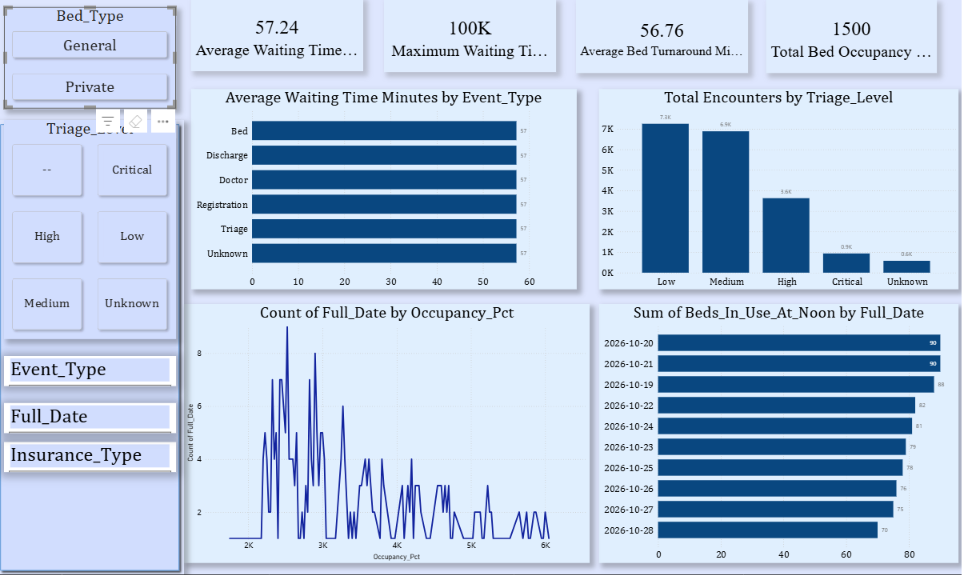

This screenshot's page, from the dashboard's own definition file:
{"tool":"powerbi","page":{"name":"Patient Flow & Capacity Management","canvas":[2000,1200],"ordinal":1},"visuals":[{"type":"card","fields":{"Values":["healthcare bed_occupancy_clean.Average Waiting Time Minutes"]},"box":[398.7,20,351.9,149.2],"z":4000},{"type":"card","fields":{"Values":["healthcare bed_occupancy_clean.Maximum Waiting Time Minutes"]},"box":[792.9,22.3,351.9,149.2],"z":5000},{"type":"card","fields":{"Values":["healthcare bed_occupancy_clean.Average Bed Turnaround Minutes"]},"box":[1187.1,24.5,351.9,149.2],"z":6000},{"type":"card","fields":{"Values":["healthcare bed_occupancy_clean.Total Bed Occupancy Records"]},"box":[1574.6,24.5,349.7,149.2],"z":7000},{"type":"clusteredBarChart","fields":{"Category":["healthcare patient_flow_events_clean.Event_Type"],"Y":["healthcare bed_occupancy_clean.Average Waiting Time Minutes"]},"box":[398.7,207.1,788.4,409.8],"z":8000},{"type":"clusteredBarChart","fields":{"Category":["Query1.Full_Date"],"Y":["Sum(Query1.Beds_In_Use_At_Noon)"]},"box":[1232.9,645.4,735.4,529.6],"z":9000},{"type":"lineChart","fields":{"Y":["CountNonNull(Query1.Full_Date)"],"Category":["Query1.Occupancy_Pct"]},"box":[383.8,645.4,829.8,529.6],"z":10000},{"type":"clusteredColumnChart","fields":{"Category":["healthcare encounters_clean.Triage_Level"],"Y":["healthcare bed_occupancy_clean.Total Encounters"]},"box":[1233.9,207.1,735,409.8],"z":11000},{"type":"shape","box":[0,269.5,383.8,930.5],"z":12000},{"type":"slicer","fields":{"Values":["healthcare patient_flow_events_clean.Event_Type"]},"box":[16.4,752.6,351.7,61.4],"z":13000},{"type":"slicer","fields":{"Values":["healthcare patients_clean.Insurance_Type"]},"box":[16.4,928.4,351.7,61.4],"z":14000},{"type":"slicer","fields":{"Values":["healthcare calendar_clean.Full_Date"]},"box":[16.4,848.7,351.7,61.4],"z":15000},{"type":"advancedSlicerVisual","fields":{"Values":["healthcare conflicting_beds.Bed_Type"]},"box":[16.4,38.9,351.7,208.6],"z":16000},{"type":"advancedSlicerVisual","fields":{"Values":["healthcare encounters_clean.Triage_Level"]},"box":[16.4,269.9,351.7,447.9],"z":17000}]}

Visuals, with their boxes in screenshot pixels (x1, y1, x2, y2), scaled from the page's 2000x1200 canvas onto the 962x575 screenshot:
card - healthcare bed_occupancy_clean.Average Waiting Time Minutes: <bbox>192, 10, 361, 81</bbox>
card - healthcare bed_occupancy_clean.Maximum Waiting Time Minutes: <bbox>381, 11, 551, 82</bbox>
card - healthcare bed_occupancy_clean.Average Bed Turnaround Minutes: <bbox>571, 12, 740, 83</bbox>
card - healthcare bed_occupancy_clean.Total Bed Occupancy Records: <bbox>757, 12, 926, 83</bbox>
clusteredBarChart - healthcare patient_flow_events_clean.Event_Type x healthcare bed_occupancy_clean.Average Waiting Time Minutes: <bbox>192, 99, 571, 296</bbox>
clusteredBarChart - Query1.Full_Date x Sum(Query1.Beds_In_Use_At_Noon): <bbox>593, 309, 947, 563</bbox>
lineChart - CountNonNull(Query1.Full_Date) x Query1.Occupancy_Pct: <bbox>185, 309, 584, 563</bbox>
clusteredColumnChart - healthcare encounters_clean.Triage_Level x healthcare bed_occupancy_clean.Total Encounters: <bbox>594, 99, 947, 296</bbox>
shape: <bbox>0, 129, 185, 574</bbox>
slicer - healthcare patient_flow_events_clean.Event_Type: <bbox>8, 361, 177, 390</bbox>
slicer - healthcare patients_clean.Insurance_Type: <bbox>8, 445, 177, 474</bbox>
slicer - healthcare calendar_clean.Full_Date: <bbox>8, 407, 177, 436</bbox>
advancedSlicerVisual - healthcare conflicting_beds.Bed_Type: <bbox>8, 19, 177, 119</bbox>
advancedSlicerVisual - healthcare encounters_clean.Triage_Level: <bbox>8, 129, 177, 344</bbox>
